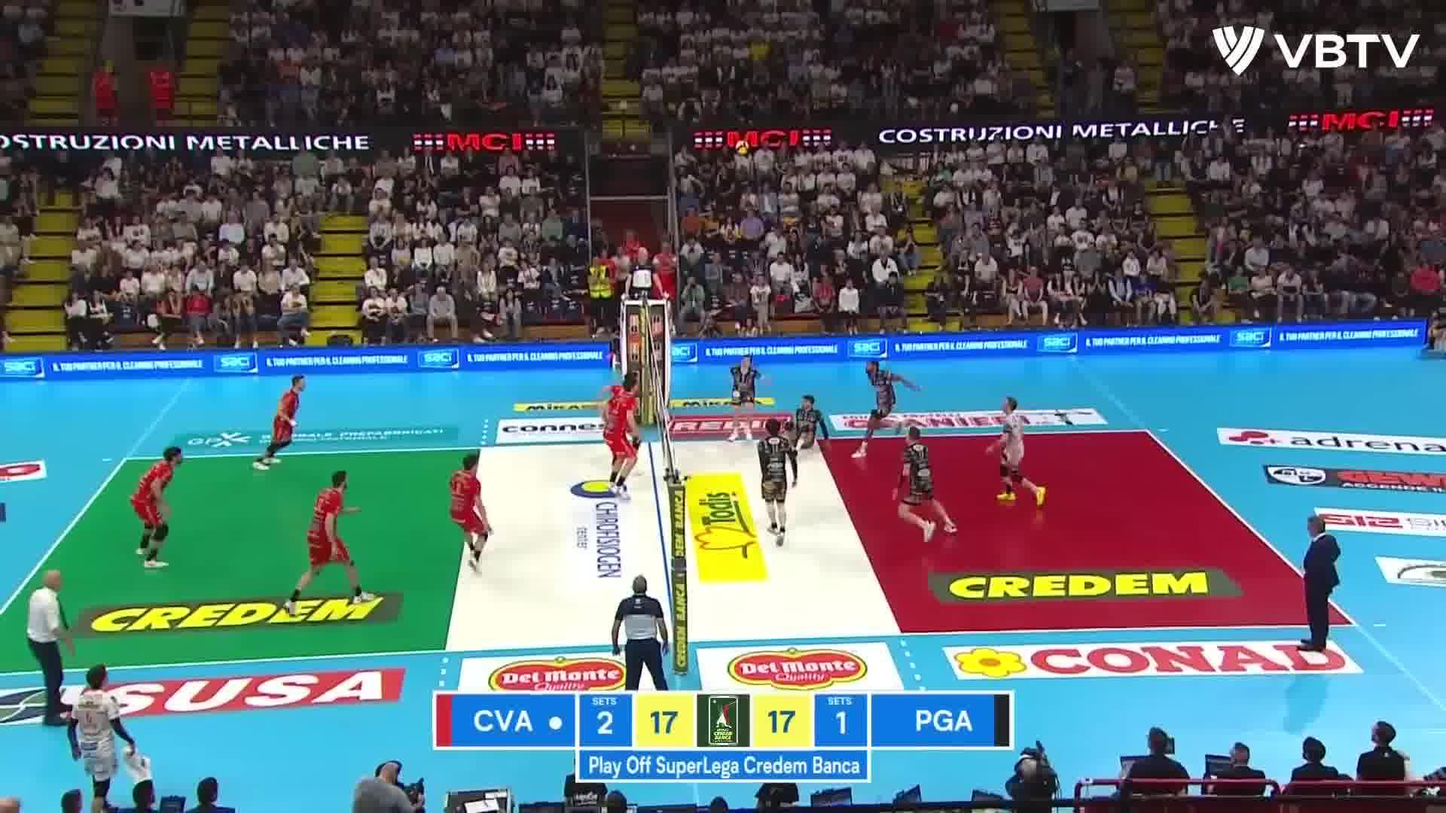balls: (734, 137, 752, 157)
